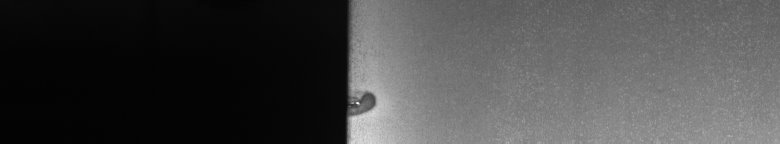hb: (356, 84, 383, 120)
